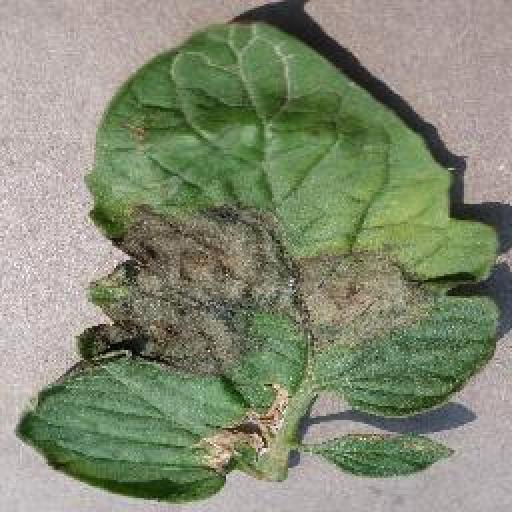disease_tomato: (16, 14, 504, 512)
